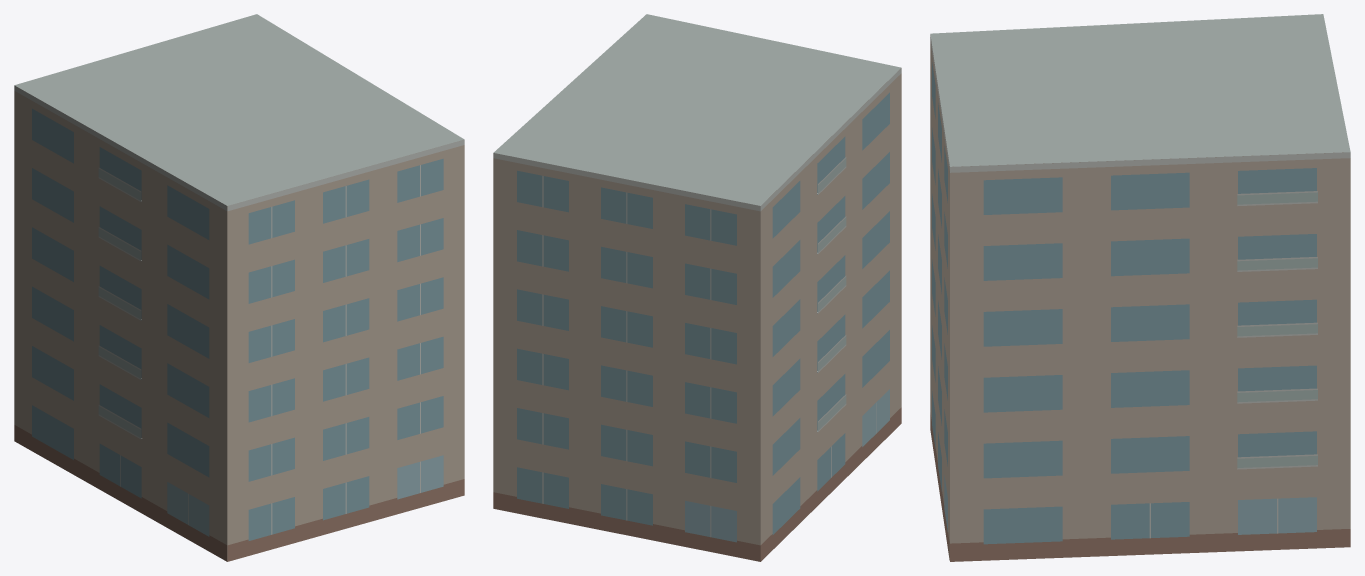
The model's file is survey-upis-32904906.glb.
3 views of the same model, side by side, from view 1: azimuth 30°, elevation 25°; view 2: azimuth 150°, elevation 25°; view 3: azimuth 270°, elevation 25° (orthographic). The views are drawn at different scales.
Visible parts, largest first — view 1: survey-upis-32904906.tmp; view 2: survey-upis-32904906.tmp; view 3: survey-upis-32904906.tmp.
Part boxes in pixels (left/top/right/bottom): survey-upis-32904906.tmp: left=14, top=14, right=464, bottom=561; survey-upis-32904906.tmp: left=493, top=14, right=901, bottom=561; survey-upis-32904906.tmp: left=930, top=14, right=1350, bottom=561.
Size of the model in its own units: 13.37 by 16.1 by 15.54.
